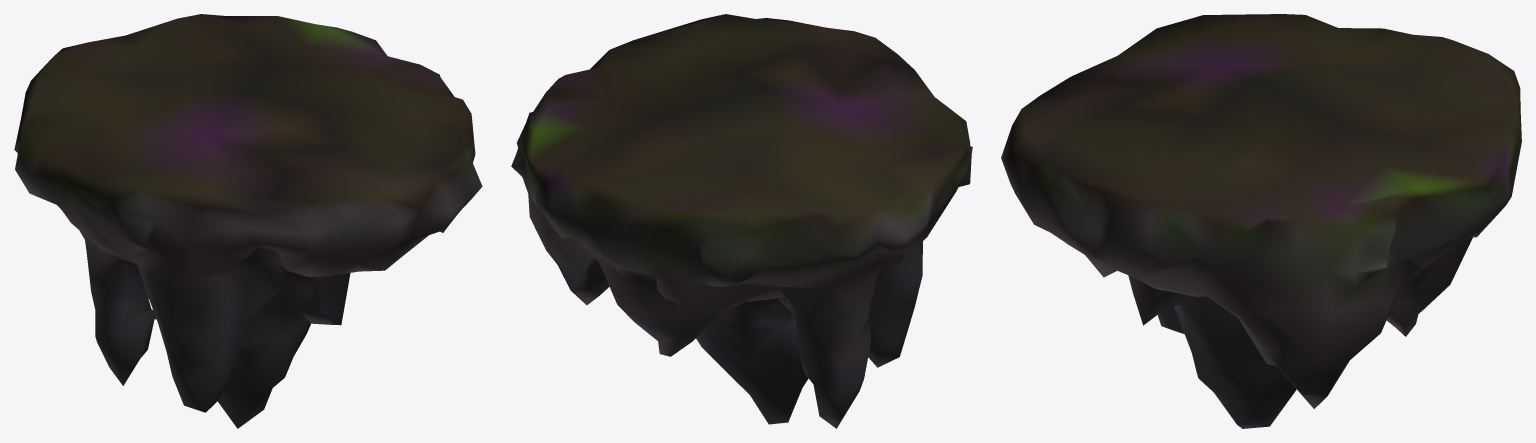
Rendered from island-nest-lod2.glb.
3 renders of one model, left to right at view 1: azimuth 30°, elevation 25°; view 2: azimuth 150°, elevation 25°; view 3: azimuth 270°, elevation 25°, orthographic. The views are drawn at different scales.
Visible parts, largest first — view 1: Silhouette; view 2: Silhouette; view 3: Silhouette.
Boxes of the visible parts, x1,y1,x2,y2 form: Silhouette: (14,14,482,428); Silhouette: (511,14,972,428); Silhouette: (1001,14,1521,428).
Bounding box in the file's own units: 35.19 × 27.93 × 36.7.
